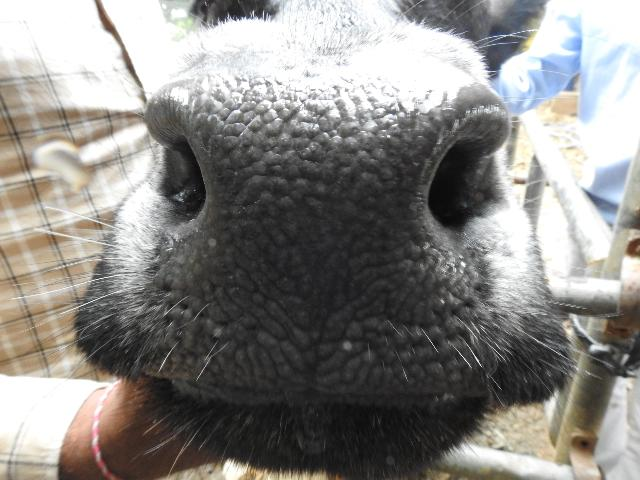Muzzle: (197, 82, 426, 364)
